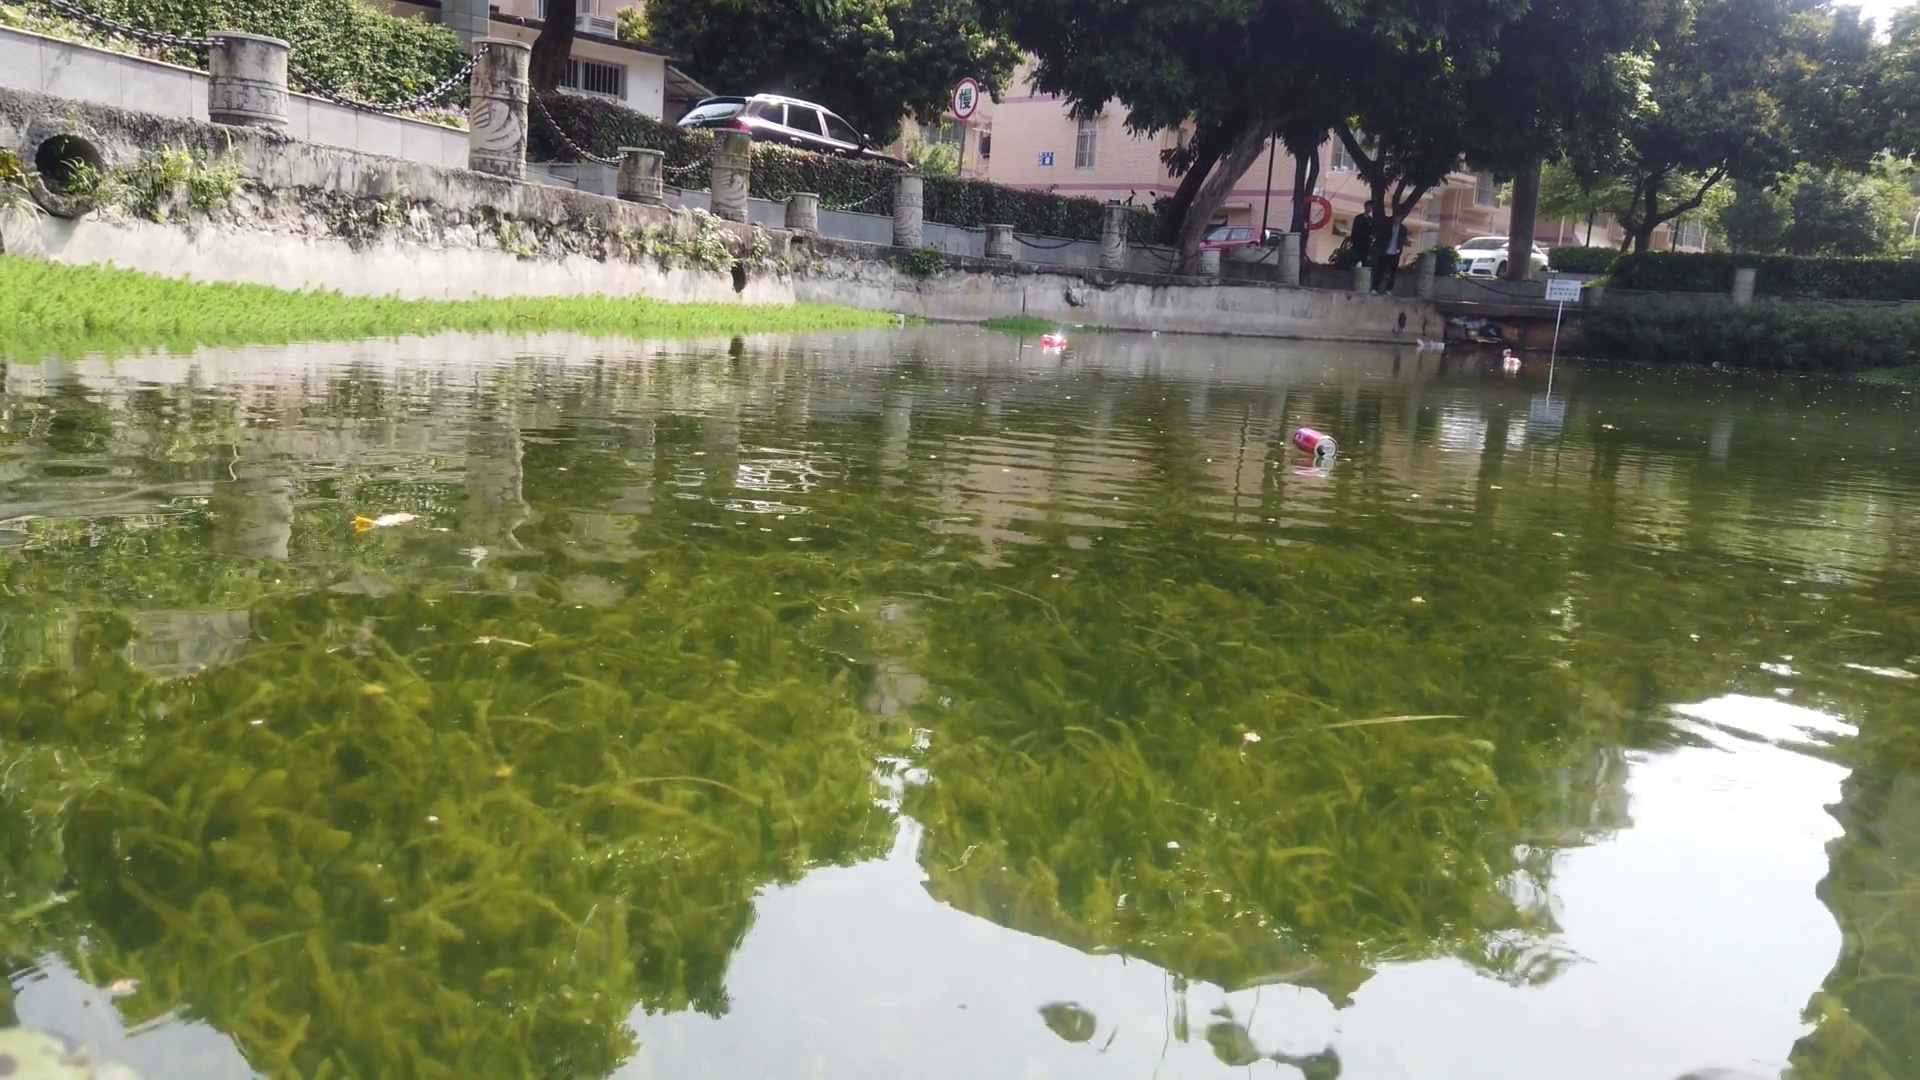bottle: (1287, 425, 1346, 462), (1040, 334, 1069, 351), (1505, 355, 1520, 369), (1501, 347, 1513, 356)
carton: (1431, 343, 1444, 352)
plastic: (1414, 338, 1432, 347)
